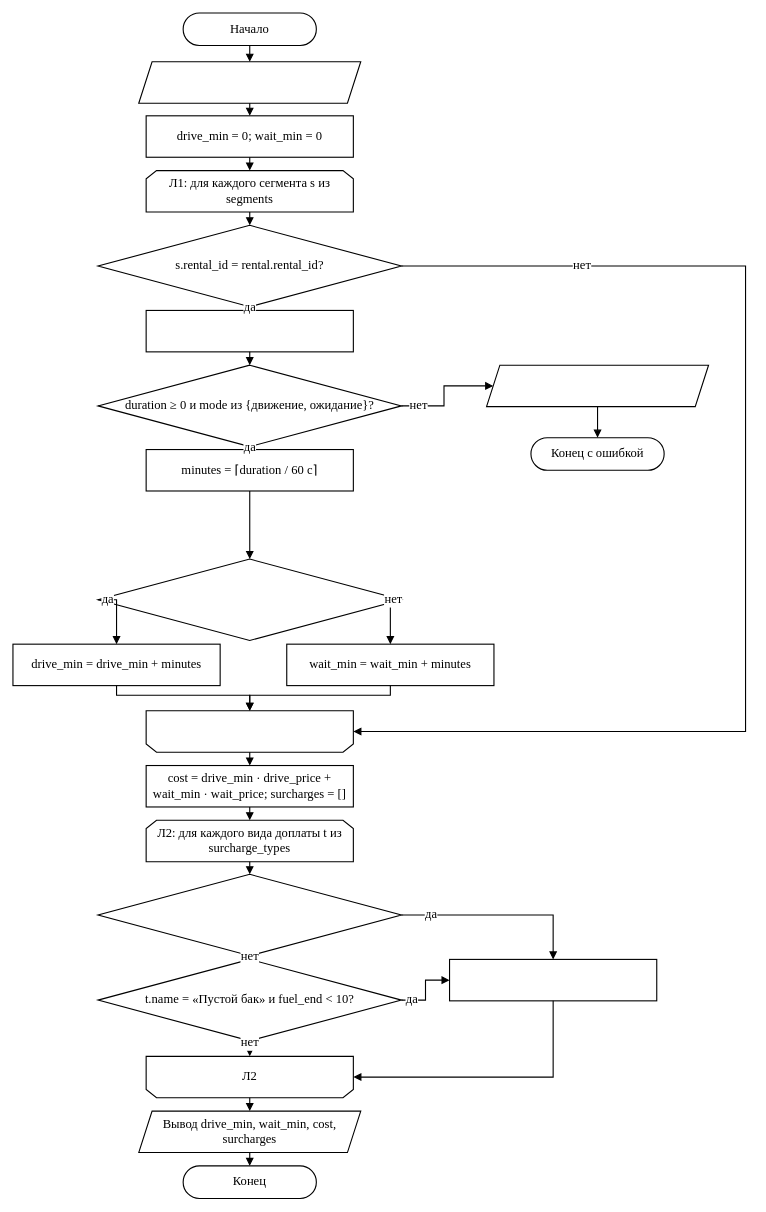
Some shapes in this 766 by 1212 pixel diagram are drawn without their labels. The shapes that lost their labels are listed below. From the top down, each one's centre as x and y in pixels, then its label:
(x=249, y=82): Ввод rental, segments, tariff, surcharge_types, zone_id
(x=249, y=331): duration = s.finished_at - s.started_at
(x=597, y=385): Ошибка: некорректный сегмент
(x=249, y=599): s.mode = «движение»?
(x=249, y=731): Л1
(x=249, y=914): t.name = «Завершение вне зоны» и zone_id = None?
(x=553, y=980): добавить запись доплаты в surcharges; cost = cost + t.amount
